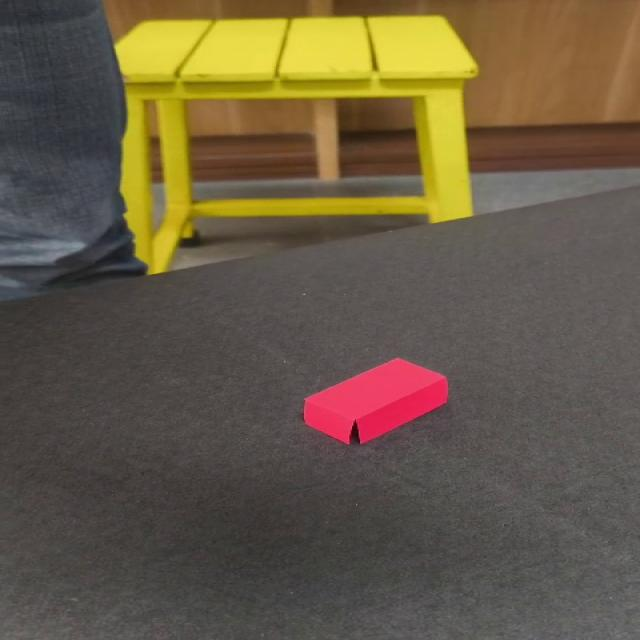red block: (302, 356, 449, 445)
